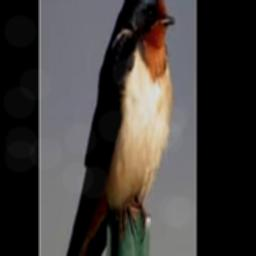Swallow: (50, 0, 176, 256)
